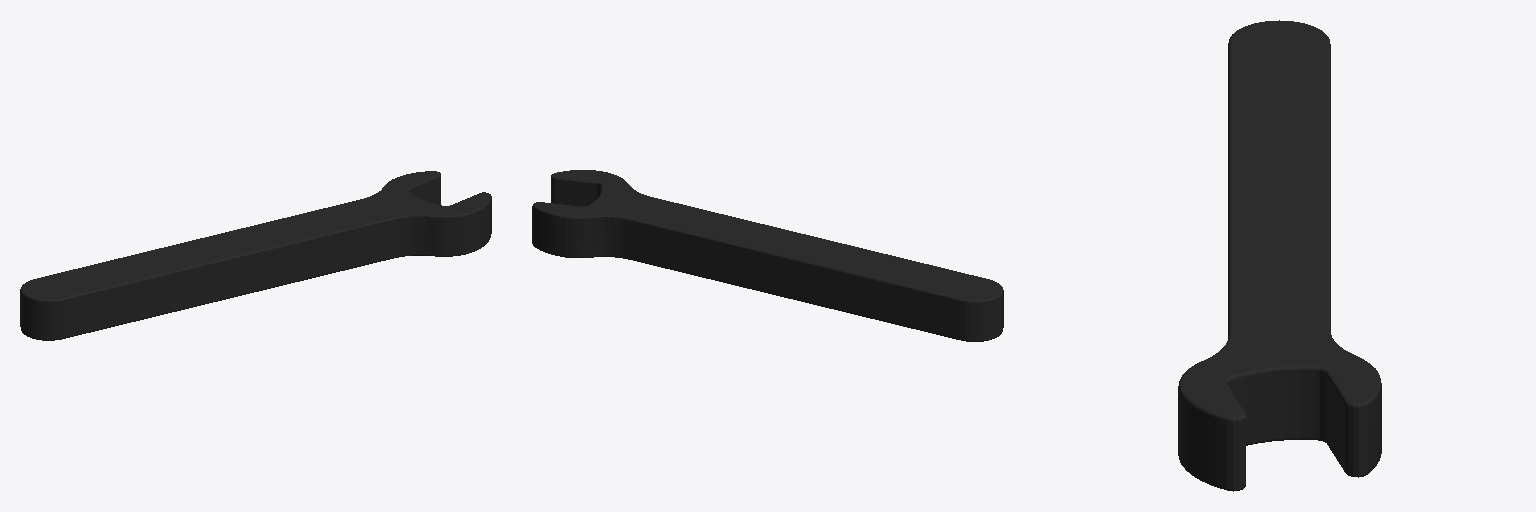
robot.urdf — wrench:
<robot name="wrench">
  <material name="trans_grey">
    <color rgba="0.2 0.2 0.2 0.5"/>
  </material>
  <link name="link_x_trans"/>
  <link name="link_y_trans"/>
  <link name="link_z_trans"/>
  <link name="link_x_rot"/>
  <link name="link_y_rot"/>
  <link name="link_z_rot"/>
  <link name="offset_wrench">
    <inertial>
      <origin rpy="0 0 0" xyz="0 0 0"/>
      <mass value="0.00987"/>
      <inertia ixx="0.0001" ixy="0" ixz="0" iyy="0.0001" iyz="0" izz="0.0001"/>
    </inertial>
    <visual>
      <geometry>
        <mesh filename="offset_wrench_nogrip.obj"/>
      </geometry>
      <material name="trans_grey"/>
    </visual>
    <collision>
      <geometry>
        <mesh filename="offset_wrench_nogrip.obj"/>
      </geometry>
    </collision>
  </link>
  <joint name="x_trans" type="prismatic">
    <origin rpy="0 0 0" xyz="0 0 0"/>
    <parent link="link_x_trans"/>
    <child link="link_y_trans"/>
    <axis xyz="1 0 0"/>
    <limit effort="100" lower="-10" upper="10" velocity="100"/>
  </joint>
  <joint name="y_trans" type="prismatic">
    <origin rpy="0 0 0" xyz="0 0 0"/>
    <parent link="link_y_trans"/>
    <child link="link_z_trans"/>
    <axis xyz="0 1 0"/>
    <limit effort="100" lower="-10" upper="10" velocity="100"/>
  </joint>
  <joint name="z_trans" type="prismatic">
    <origin rpy="0 0 0" xyz="0 0 0"/>
    <parent link="link_z_trans"/>
    <child link="link_x_rot"/>
    <axis xyz="0 0 1"/>
    <limit effort="100" lower="-10" upper="10" velocity="100"/>
  </joint>
  <joint name="x_rot" type="revolute">
    <origin rpy="0 0 0" xyz="0 0 0"/>
    <parent link="link_x_rot"/>
    <child link="link_y_rot"/>
    <axis xyz="1 0 0"/>
    <limit effort="100" lower="-10" upper="10" velocity="100"/>
  </joint>
  <joint name="y_rot" type="revolute">
    <origin rpy="0 0 0" xyz="0 0 0"/>
    <parent link="link_y_rot"/>
    <child link="link_z_rot"/>
    <axis xyz="0 1 0"/>
    <limit effort="100" lower="-10" upper="10" velocity="100"/>
  </joint>
  <joint name="z_rot" type="revolute">
    <origin rpy="0 0 0" xyz="0 0 0"/>
    <parent link="link_z_rot"/>
    <child link="offset_wrench"/>
    <axis xyz="0 0 1"/>
    <limit effort="100" lower="-10" upper="10" velocity="100"/>
  </joint>
</robot>

--- Facts derived from the render (not from the file) ---
The picture shows the robot from 3 angles, left to right: view 1: azimuth 30°, elevation 25°; view 2: azimuth 150°, elevation 25°; view 3: azimuth 270°, elevation 25°; orthographic projection.
Robot: wrench — 7 links, 6 joints (3 revolute, 3 prismatic); root link link_x_trans; default pose: all joints at 0.
Visible links, largest first — view 1: offset_wrench; view 2: offset_wrench; view 3: offset_wrench.
Boxes of the visible links, <box> form: offset_wrench: <box>20,171,491,340</box>; offset_wrench: <box>532,170,1003,341</box>; offset_wrench: <box>1178,20,1381,491</box>.
Size in the robot's own frame: 0.1175 by 0.0253 by 0.0101 metres.
1 mesh visuals loaded from 1 distinct referenced files (1 OBJ).